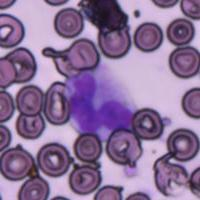N: (64, 63, 138, 140)
